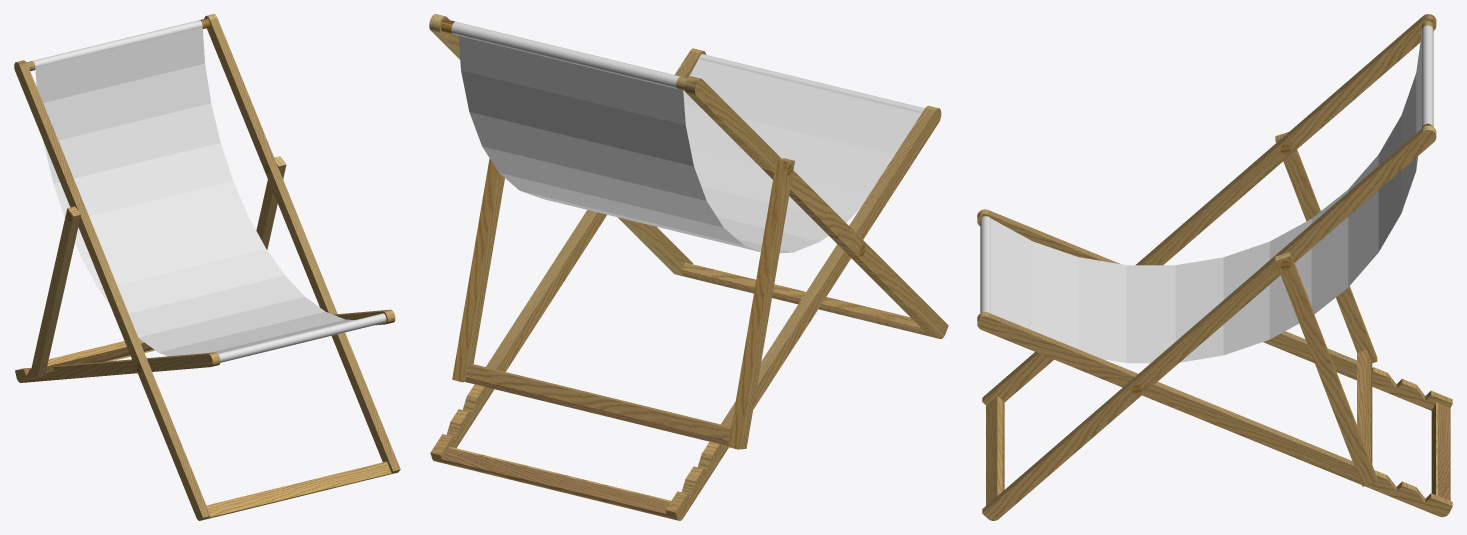
File: tumbona-pino.glb
3 views of the same model, side by side, from view 1: azimuth 30°, elevation 25°; view 2: azimuth 150°, elevation 25°; view 3: azimuth 270°, elevation 25° (orthographic). The views are drawn at different scales.
Bounding box in the file's own units: 0.56 × 0.8189 × 0.9011.
Materials: 5 (4 with a texture image).
